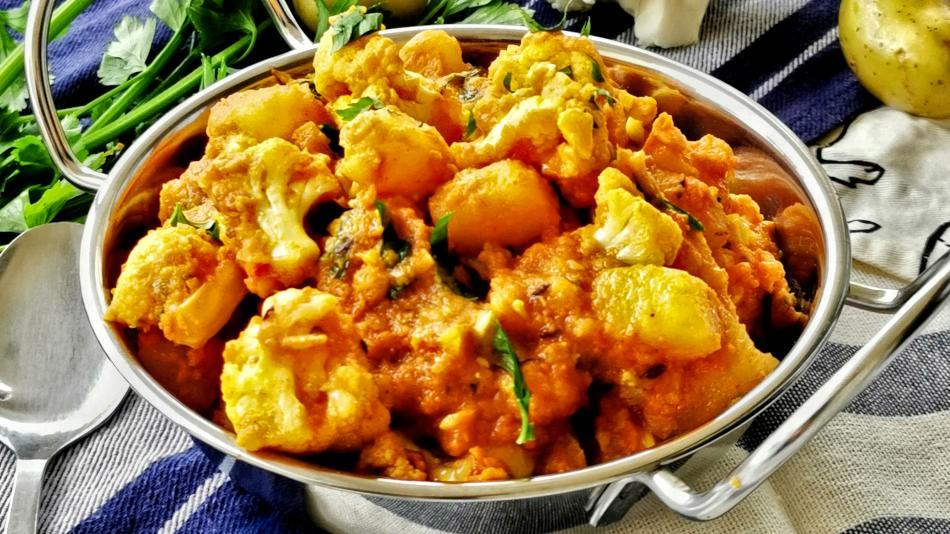AlooGobi: (108, 30, 799, 483)
